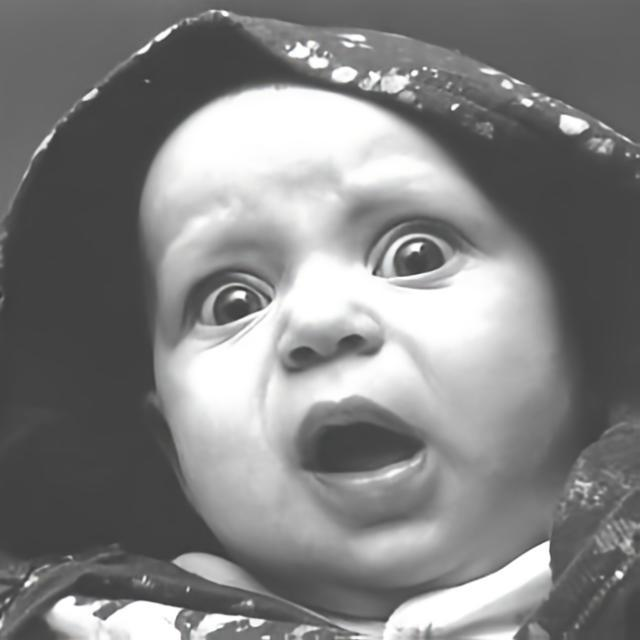fear: (138, 80, 580, 592)
